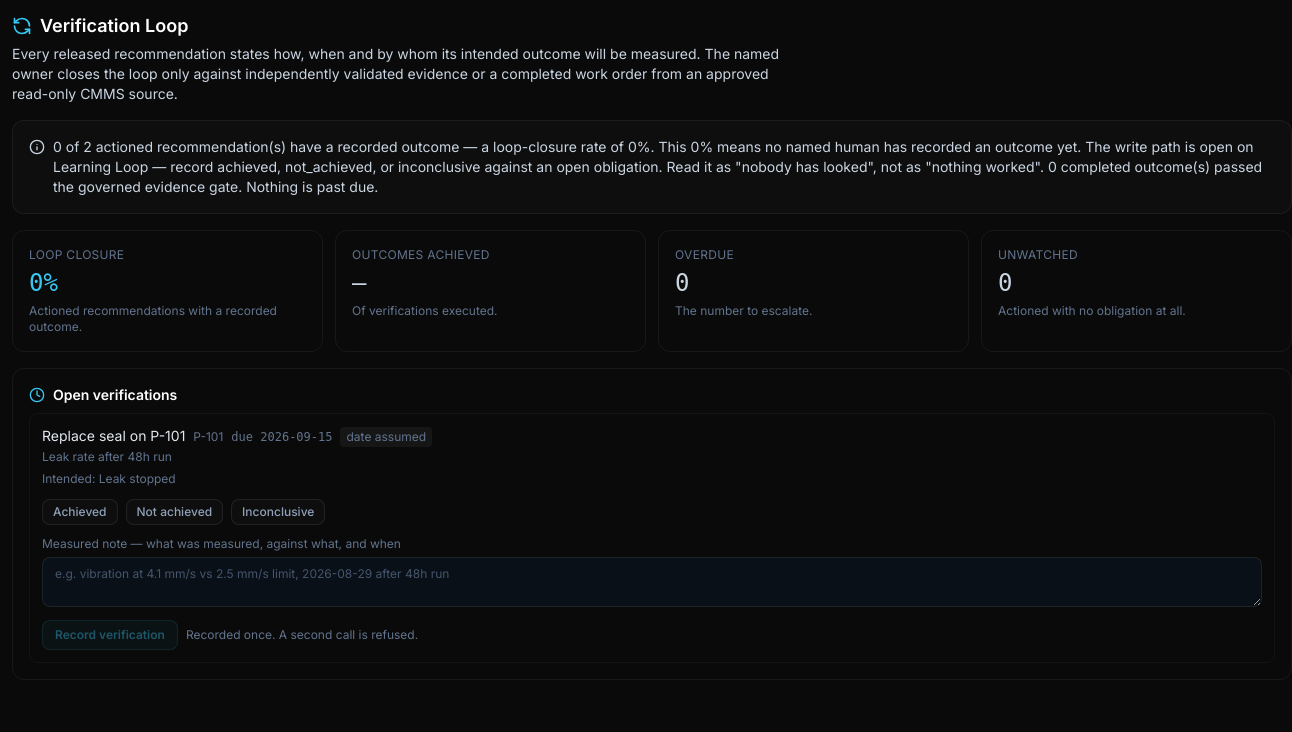
Scenario: VerificationLoop — named-human recorder › keeps submit disabled when only a result is selected
Expected: the text "Replace seal on P-101" is shown, [42,426,185,446]
Click the radio button labelled "Inconclusive": click(278, 512) [231,498,325,524]
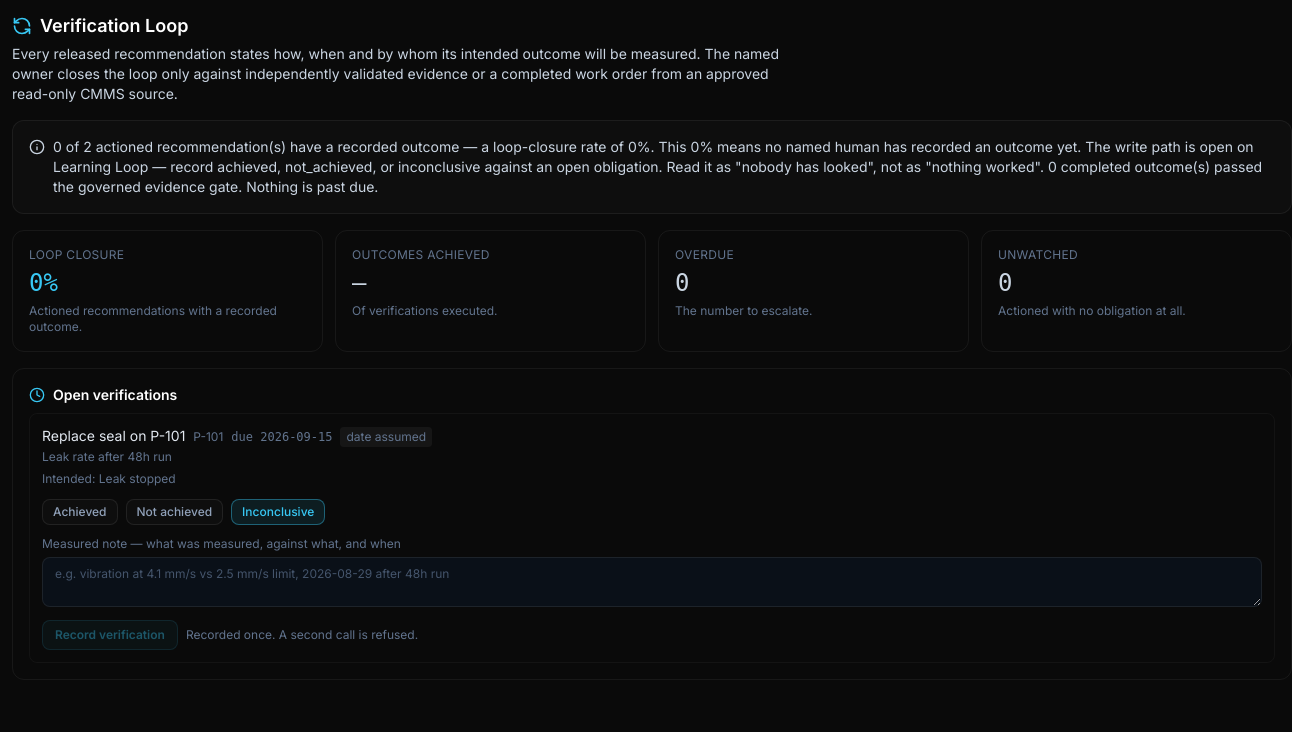
Expected: the button "Record verification" is disabled, [42,620,178,650]
Now the radio button labelled "Inconclusive" is checked, box [231,498,325,524]
